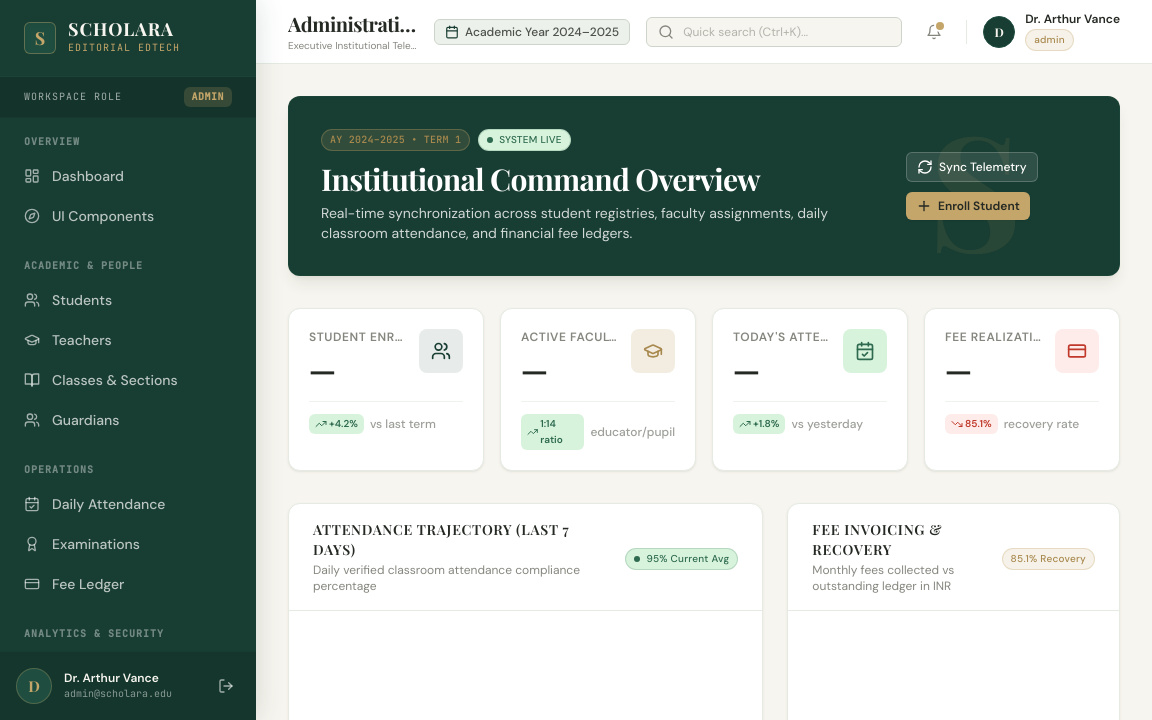
Test: SCHOLARA Admin Dashboard Component Suite › opens fast student enrollment modal when action button is clicked
Click the button "Enroll Student": {"x": 968, "y": 206} [906, 192, 1030, 220]
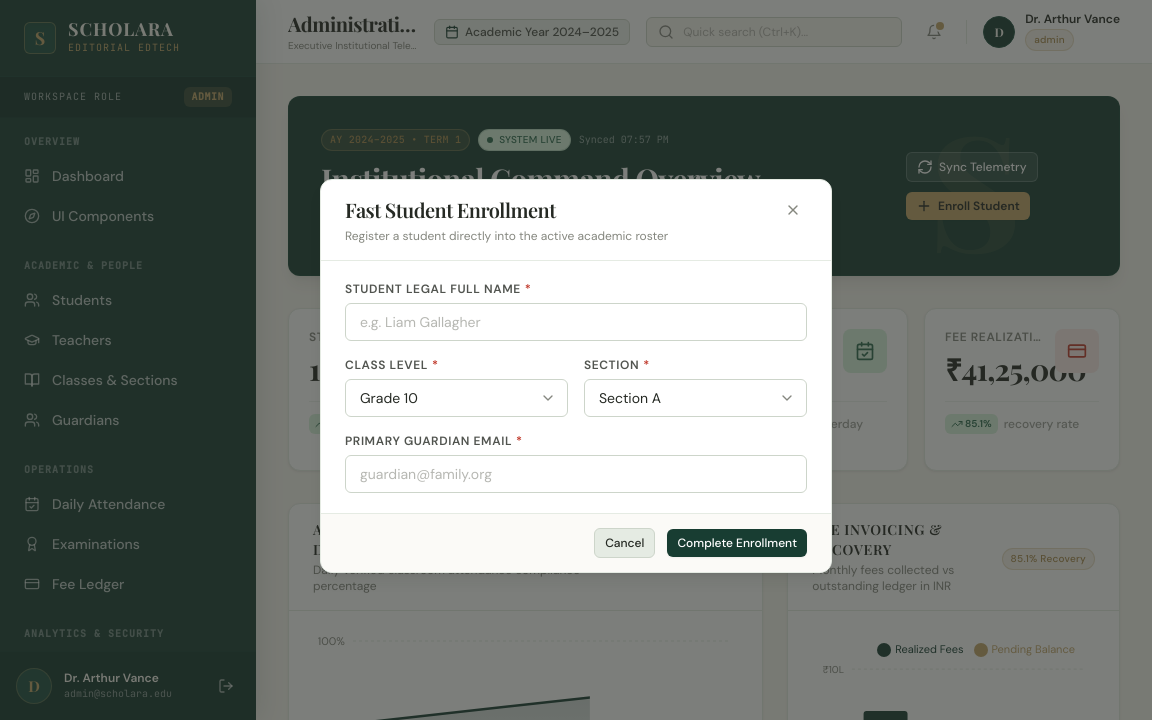
Check: the heading "Fast Student Enrollment" is shown, box [345, 196, 556, 223]
Check: the field labelled "Student Legal Full Name*" is shown, box [345, 303, 807, 341]
